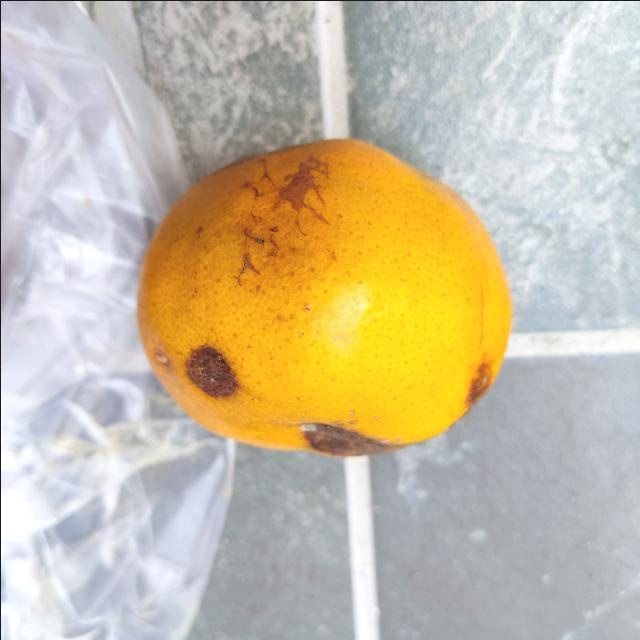agrume: (134, 133, 522, 459)
